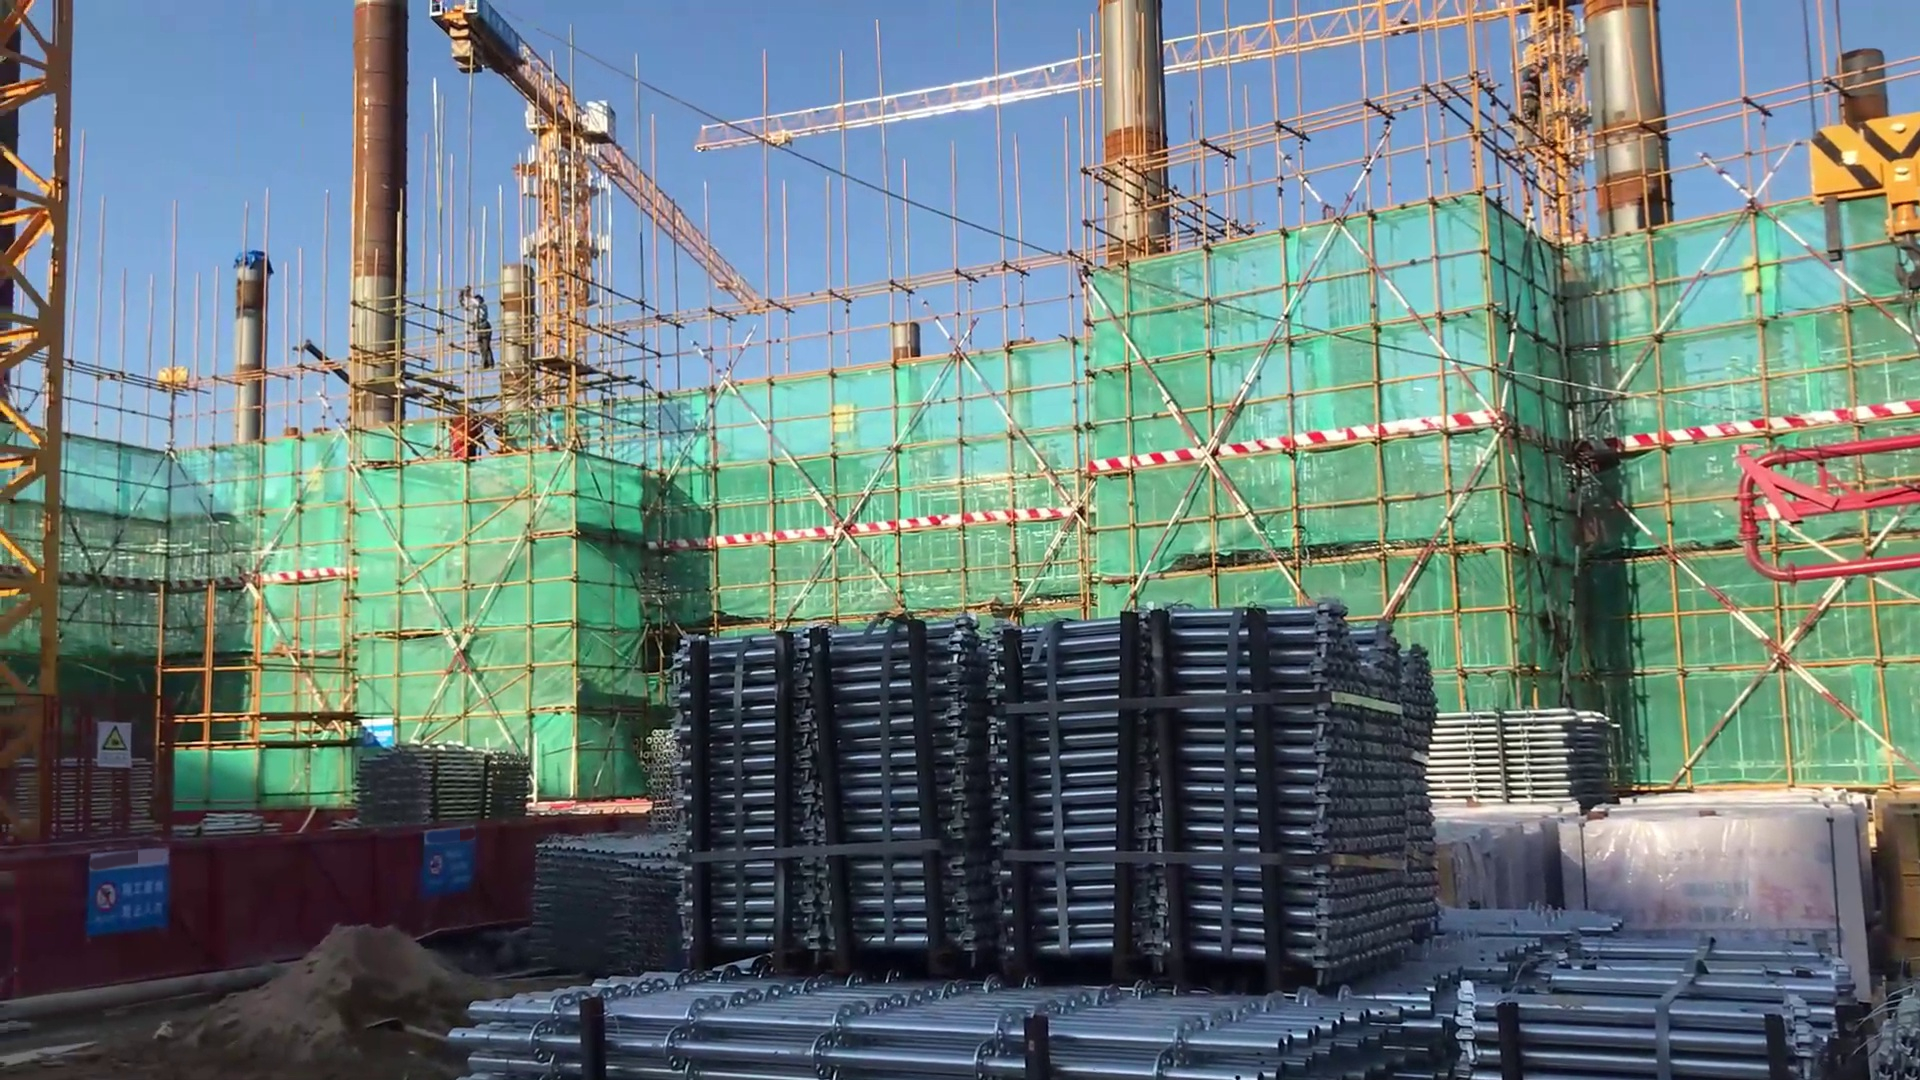fence: (5, 835, 533, 962), (16, 694, 168, 821)
hook: (1786, 92, 1920, 313), (151, 349, 194, 406)
person: (462, 279, 497, 375)
scaffold: (673, 620, 1434, 977), (432, 912, 1615, 1080), (1493, 926, 1876, 1080), (527, 828, 701, 981), (1431, 710, 1650, 809), (352, 741, 540, 814)
slogan: (87, 835, 179, 939), (406, 821, 488, 906), (354, 712, 405, 762), (97, 710, 138, 770)
